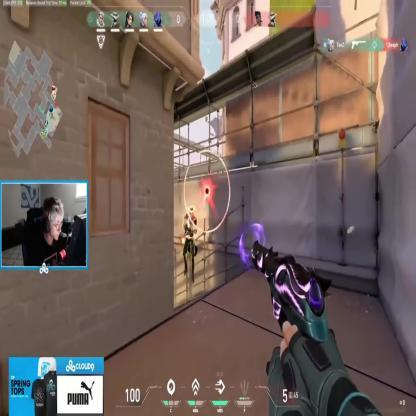enemy: (183, 204, 197, 282)
enemy_head: (188, 205, 194, 217)
